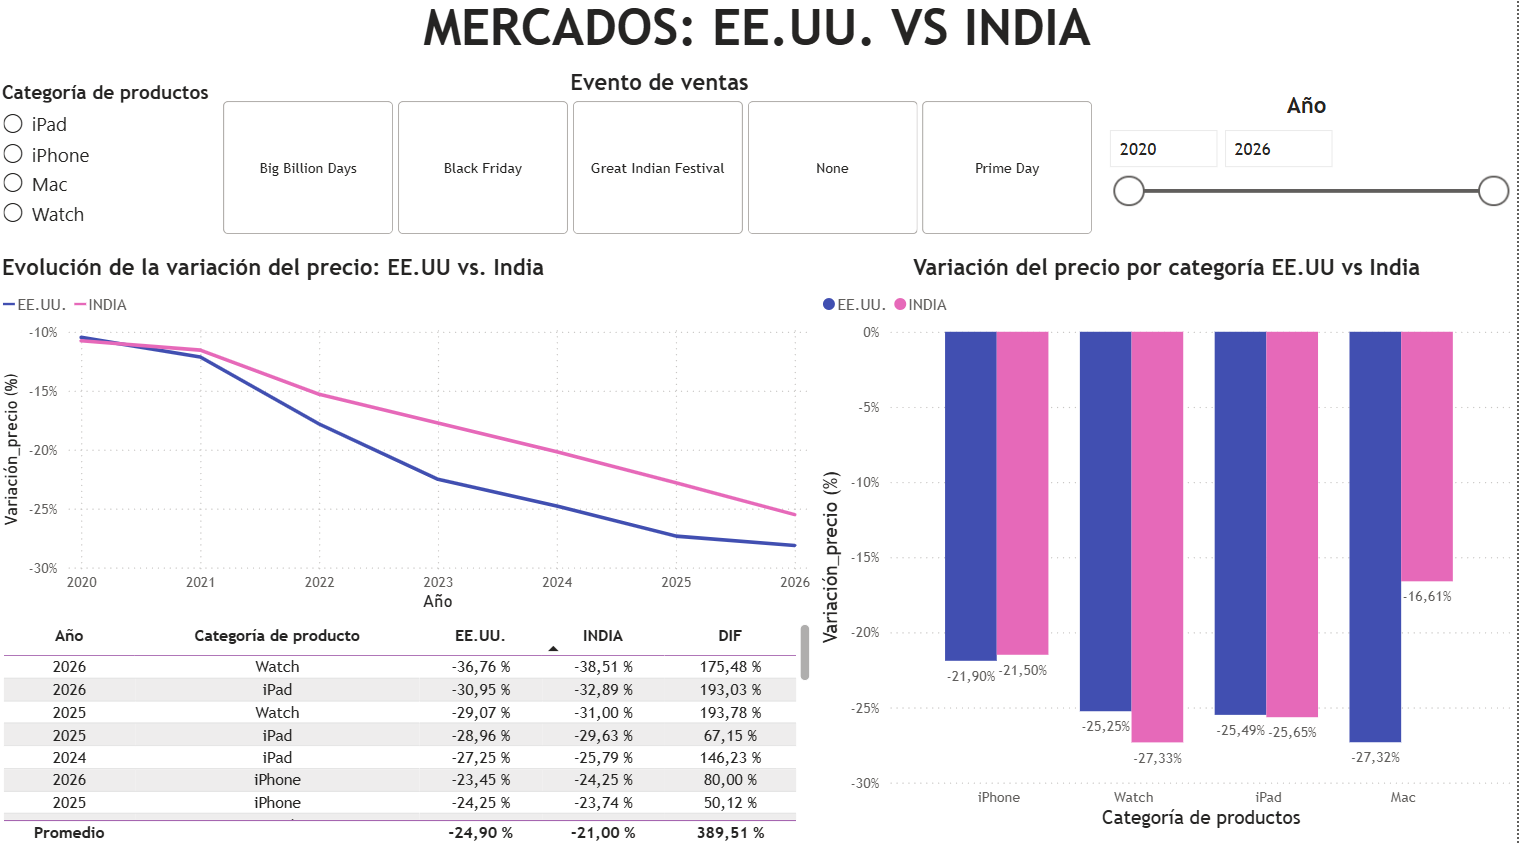

Layout of this report page (visuals, bound fields, positions):
{"tool":"powerbi","page":{"name":"EE.UU VS INDIA","canvas":[1280,720],"ordinal":3},"visuals":[{"type":"textbox","box":[0,0,1280,65],"z":0},{"type":"listSlicer","fields":{"Values":["apple_products_pricing_2020_202.Product_Category"]},"box":[0,75,185,133.8],"z":1000},{"type":"slicer","title":"Año","fields":{"Values":["apple_products_pricing_2020_202.Date.Variación.Jerarquía de fechas.Año"]},"box":[923.8,83.8,356.2,117.5],"z":2000},{"type":"advancedSlicerVisual","fields":{"Values":["apple_products_pricing_2020_202.Sale_Event"]},"box":[166.2,65,783.8,143.8],"z":3000},{"type":"tableEx","fields":{"Values":["apple_products_pricing_2020_202.Date.Variación.Jerarquía de fechas.Año","apple_products_pricing_2020_202.Product_Category","Medidas_creadas.Variación_precio_USD%","Medidas_creadas.Variación_precio_INR%","Medidas_creadas.DIF_USD_INR %"]},"box":[0,526.2,690,193.8],"z":4000},{"type":"lineChart","title":"Evolución de la variación del precio: EE.UU vs. India","fields":{"Y":["Medidas_creadas.Variación_precio_USD%","Medidas_creadas.Variación_precio_INR%"],"Category":["apple_products_pricing_2020_202.Date.Variación.Jerarquía de fechas.Año"]},"box":[0,221.2,690,305],"z":5000},{"type":"lineClusteredColumnComboChart","title":"Variación del precio por categoría EE.UU vs India","fields":{"Category":["apple_products_pricing_2020_202.Product_Category"],"Y":["Medidas_creadas.Variación_precio_USD%","Medidas_creadas.Variación_precio_INR%"]},"box":[690,221.2,590,487.5],"z":6000}]}

Visuals, with their boxes in screenshot pixels (x1, y1, x2, y2), scaled from the page's 1280x720 canvas onto the 1520x845 screenshot:
textbox: (0, 0, 1519, 76)
listSlicer - apple_products_pricing_2020_202.Product_Category: (0, 88, 220, 245)
"Año" slicer: (1097, 98, 1519, 236)
advancedSlicerVisual - apple_products_pricing_2020_202.Sale_Event: (197, 76, 1128, 245)
tableEx - apple_products_pricing_2020_202.Date.Variación.Jerarquía de fechas.Año x apple_products_pricing_2020_202.Product_Category: (0, 618, 819, 844)
"Evolución de la variación del precio: EE.UU vs. India" lineChart: (0, 260, 819, 618)
"Variación del precio por categoría EE.UU vs India" lineClusteredColumnComboChart: (819, 260, 1519, 832)
